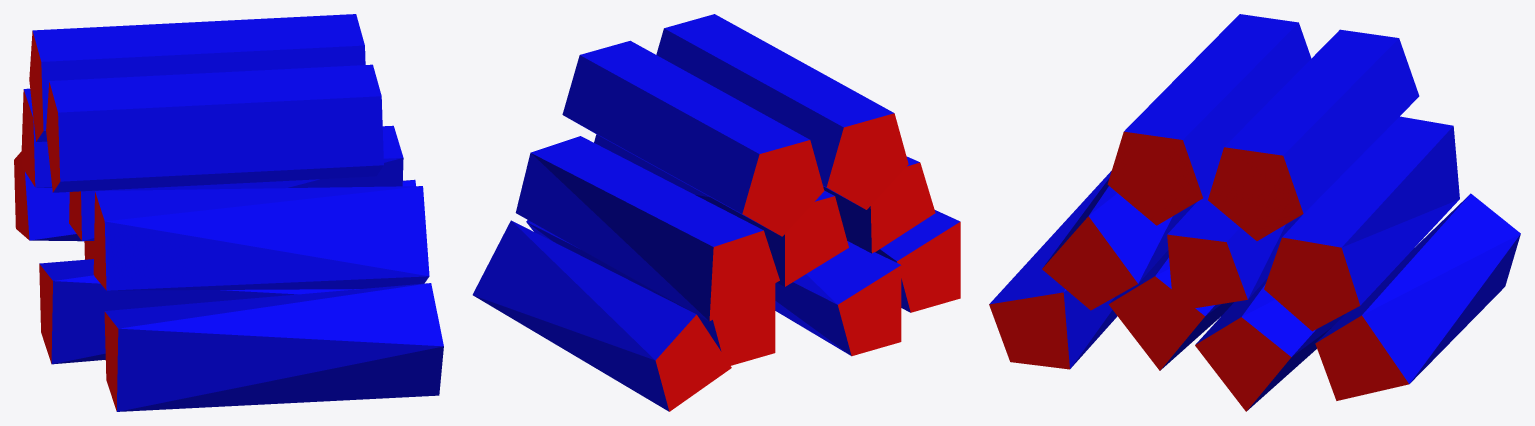
Rendered from SM_LogStack.fbx.
The picture shows the model from 3 angles, left to right: view 1: azimuth 30°, elevation 25°; view 2: azimuth 150°, elevation 25°; view 3: azimuth 270°, elevation 25°; orthographic projection. The views are drawn at different scales.
Parts seen in each view (by area): view 1: material1; view 2: material1; view 3: material1.
Boxes of the visible parts, x1,y1,x2,y2 form: material1: (14, 14, 443, 411); material1: (472, 14, 960, 411); material1: (989, 14, 1520, 411).
Size of the model in its own units: 70.43 by 46.05 by 92.22.
